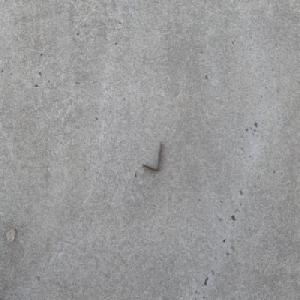MetalPart: (142, 140, 162, 172)
